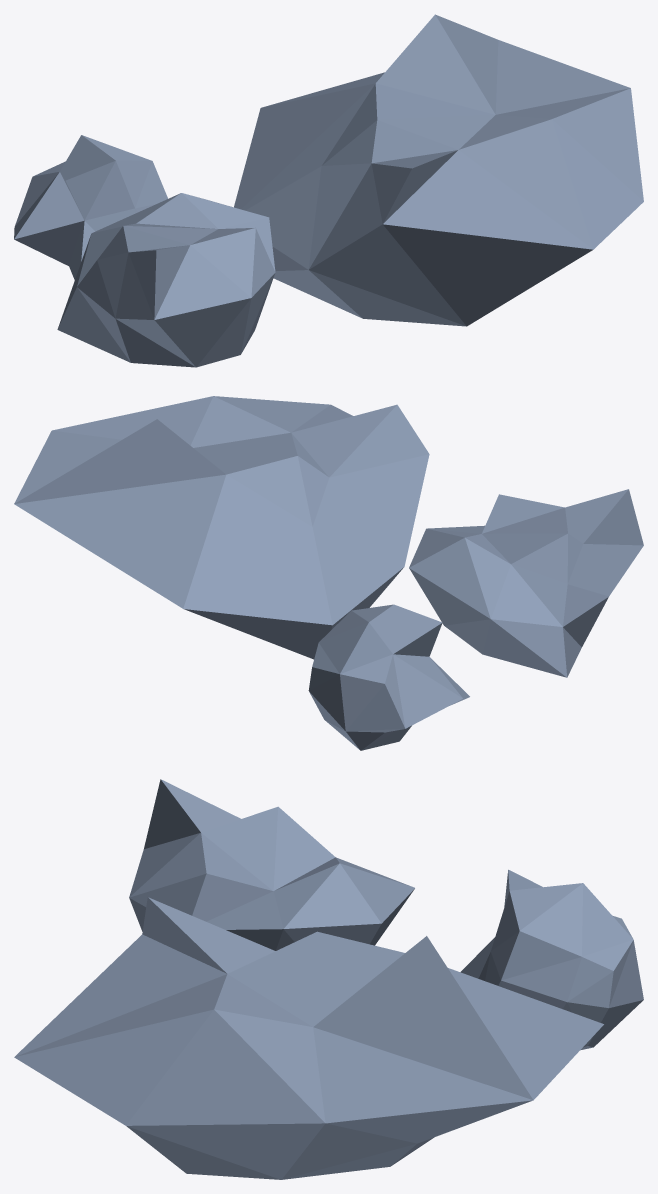
File: Plainstone 1.fbx
3 renders of one model, top to bottom at view 1: azimuth 30°, elevation 25°; view 2: azimuth 150°, elevation 25°; view 3: azimuth 270°, elevation 25°, orthographic. The views are drawn at different scales.
Visible parts, largest first — view 1: Plainstone Size 1; view 2: Plainstone Size 1; view 3: Plainstone Size 1.
Part boxes in pixels (x1,y1,x2,y2): Plainstone Size 1: [14, 14, 643, 367]; Plainstone Size 1: [14, 396, 643, 750]; Plainstone Size 1: [14, 779, 643, 1179].
Bounding box in the file's own units: 159 × 66.39 × 128.
